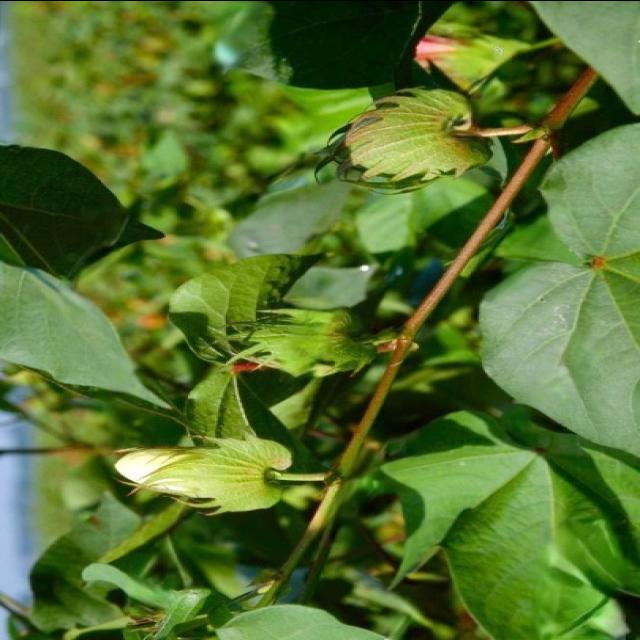Cotton Bud: (328, 99, 488, 193), (218, 308, 384, 377), (172, 432, 294, 510)
